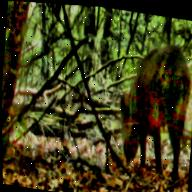boar: (107, 14, 192, 192)
